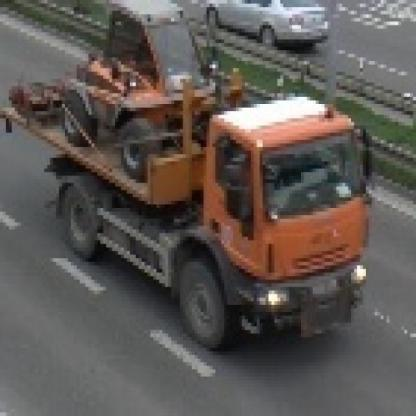truck: (4, 1, 379, 353)
